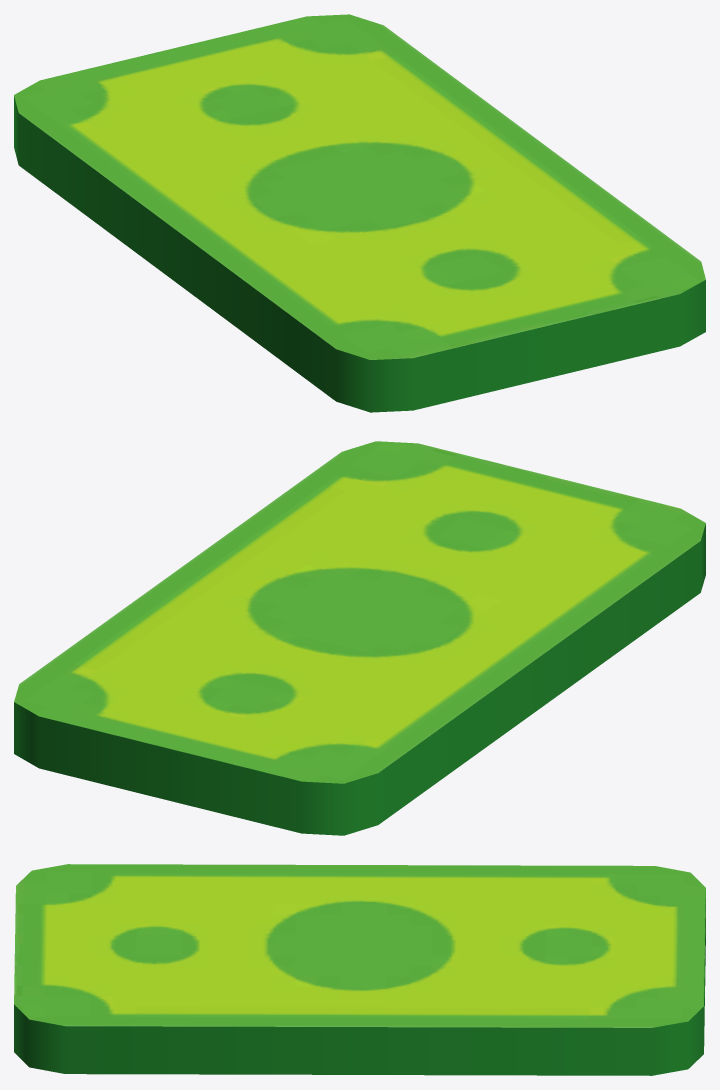
The model's file is para modeli.fbx.
The picture shows the model from 3 angles, top to bottom: view 1: azimuth 30°, elevation 25°; view 2: azimuth 150°, elevation 25°; view 3: azimuth 270°, elevation 25°; orthographic projection. The views are drawn at different scales.
Parts seen in each view (by area): view 1: Money.025; view 2: Money.025; view 3: Money.025.
Part boxes in pixels (x1=…): Money.025: x1=14, y1=14, x2=705, y2=412; Money.025: x1=14, y1=441, x2=705, y2=835; Money.025: x1=14, y1=864, x2=705, y2=1075.
Bounding box in the file's own units: 0.6801 × 0.0927 × 1.21.
1 material, 1 textured.
